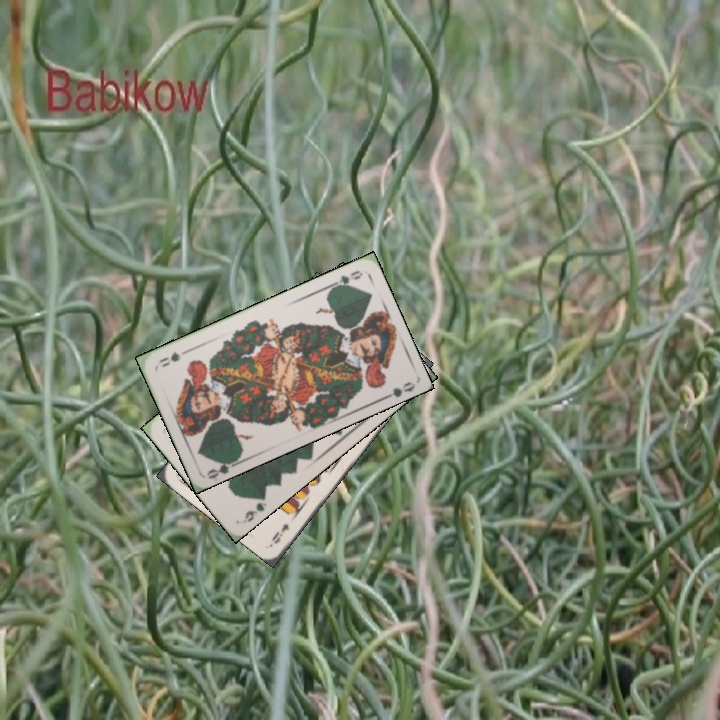E9: (267, 519, 292, 546)
G9: (241, 491, 269, 525)
GO: (326, 266, 365, 294), (203, 454, 243, 481)
